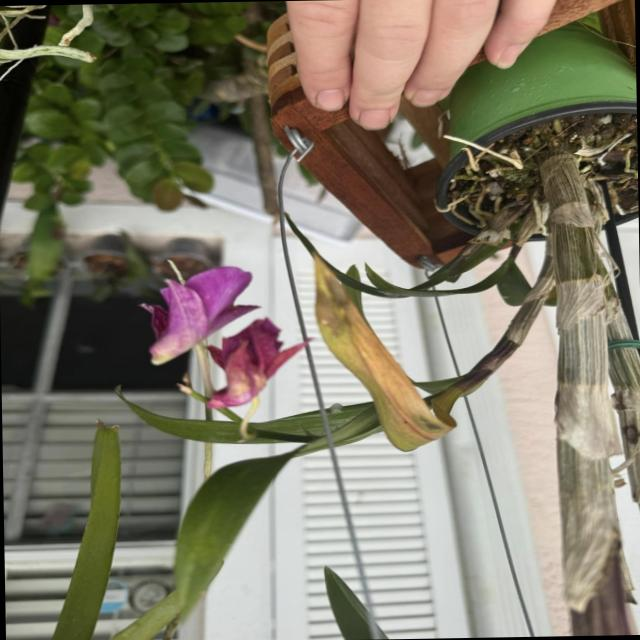flower: (144, 266, 257, 356)
leaf: (112, 450, 293, 640), (310, 250, 456, 450), (117, 388, 329, 456), (51, 430, 119, 640), (330, 256, 530, 303), (325, 569, 373, 639), (325, 401, 381, 446), (496, 262, 530, 305), (473, 246, 495, 262)
pot: (416, 6, 638, 255)
stem: (539, 156, 631, 636), (425, 245, 554, 422), (608, 314, 640, 508)
